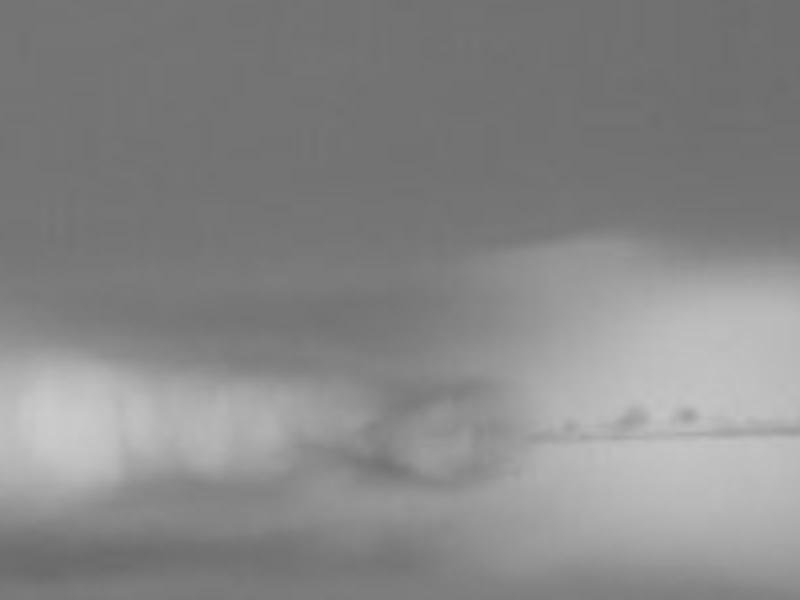defect: (607, 404, 647, 434), (671, 405, 698, 428), (558, 413, 575, 434)
